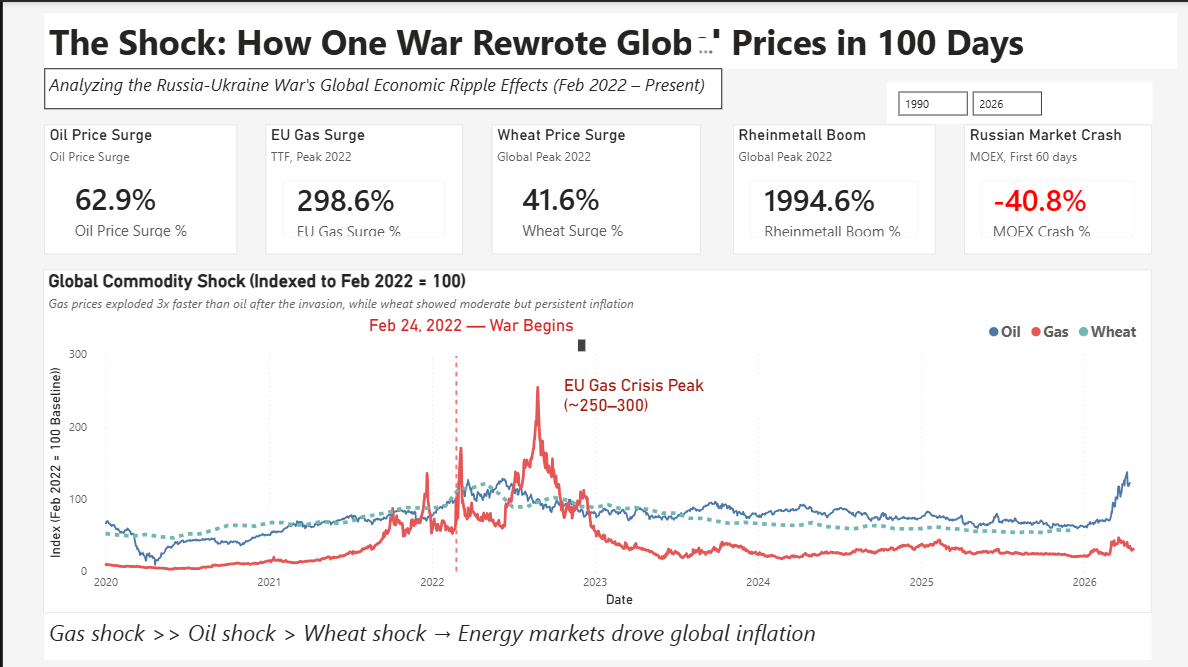

What the dashboard file says about the page in this screenshot:
{"tool":"powerbi","page":{"name":"1. The Shock","canvas":[1280,720],"ordinal":0},"visuals":[{"type":"textbox","box":[44.3,12.2,1222,60],"z":0},{"type":"textbox","box":[44.3,71.8,730.1,44.3],"z":1000},{"type":"cardVisual","title":"Wheat Price Surge","fields":{"Data":["Commodities.Wheat Surge %"]},"box":[527.1,131.4,225.7,140],"z":2000},{"type":"cardVisual","title":"EU Gas Surge","fields":{"Data":["TTF_Gas.EU Gas Surge %"]},"box":[282.9,131.4,212.9,140],"z":3000},{"type":"cardVisual","title":"Oil Price Surge","fields":{"Data":["Brent.Oil Price Surge %"]},"box":[44,132,208,140],"z":4000},{"type":"cardVisual","title":"Rheinmetall Boom","fields":{"Data":["Rheinmetall.Rheinmetall Boom %"]},"box":[787.1,131.4,218.6,140],"z":5000},{"type":"cardVisual","title":"Russian Market Crash","fields":{"Data":["MOEX.MOEX Crash %"]},"box":[1036,132,202,140],"z":6000},{"type":"slicer","fields":{"Values":["DimDate.Year"]},"box":[952.5,86.2,286.2,45],"z":7000},{"type":"lineChart","title":"Global Commodity Shock (Indexed to Feb 2022 = 100)","fields":{"Category":["DimDate.Date"],"Y":["Brent.Oil Indexed V2","TTF_Gas.Gas Indexed Measure","Commodities.Wheat Indexed Measure"]},"box":[43.3,288.3,1195,370],"z":8000},{"type":"textbox","box":[45,658.3,1193.3,50],"z":9000},{"type":"textbox","title":"Feb 24, 2022 — War Begins","box":[390,338.3,243.3,43.3],"z":10000},{"type":"textbox","title":"EU Gas Crisis Peak (~250–300)","box":[600,403.3,243.3,43.3],"z":10001}]}

Visuals, with their boxes in screenshot pixels (x1, y1, x2, y2), scaled from the page's 1280x720 canvas onto the 1188x667 screenshot:
textbox: [41,11,1175,67]
textbox: [41,67,719,108]
"Wheat Price Surge" cardVisual: [489,122,699,251]
"EU Gas Surge" cardVisual: [263,122,460,251]
"Oil Price Surge" cardVisual: [41,122,234,252]
"Rheinmetall Boom" cardVisual: [731,122,933,251]
"Russian Market Crash" cardVisual: [962,122,1149,252]
slicer - DimDate.Year: [884,80,1150,122]
"Global Commodity Shock (Indexed to Feb 2022 = 100)" lineChart: [40,267,1149,610]
textbox: [42,610,1149,656]
"Feb 24, 2022 — War Begins" textbox: [362,313,588,354]
"EU Gas Crisis Peak (~250–300)" textbox: [557,374,783,414]
